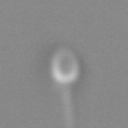normal: (55, 85, 84, 128)
